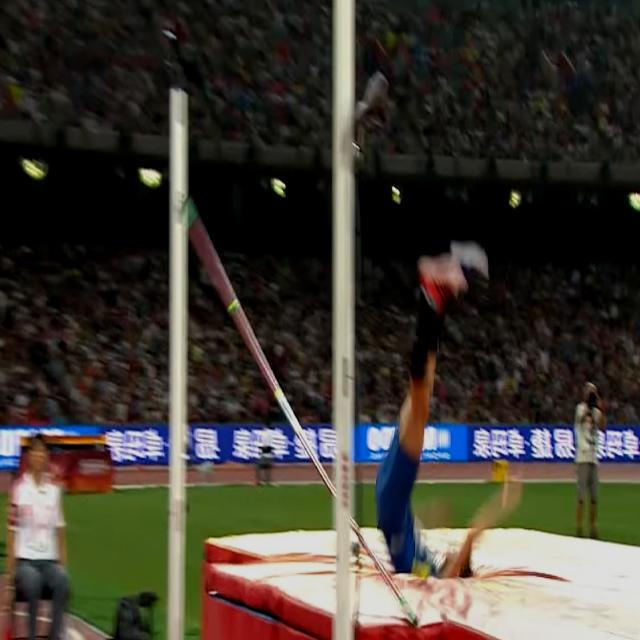land: (378, 244, 521, 576)
